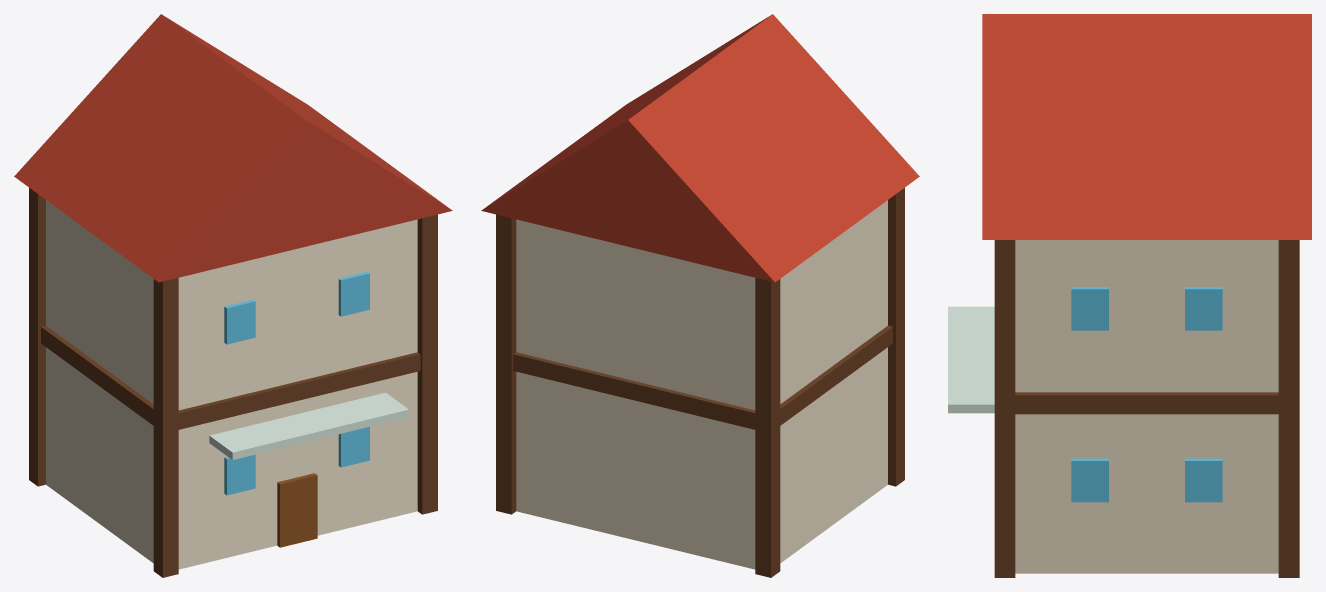
Rendered from wall_house.glb.
3 renders of one model, left to right at view 1: azimuth 30°, elevation 25°; view 2: azimuth 150°, elevation 25°; view 3: azimuth 270°, elevation 25°, orthographic. The views are drawn at different scales.
Parts seen in each view (by area): view 1: awning; view 2: awning; view 3: awning.
Boxes of the visible parts, bbox=[...] form: awning: bbox=[14, 14, 452, 577]; awning: bbox=[481, 14, 919, 577]; awning: bbox=[948, 14, 1311, 577].
Size of the model in its own units: 2.04 by 2.84 by 1.92.
